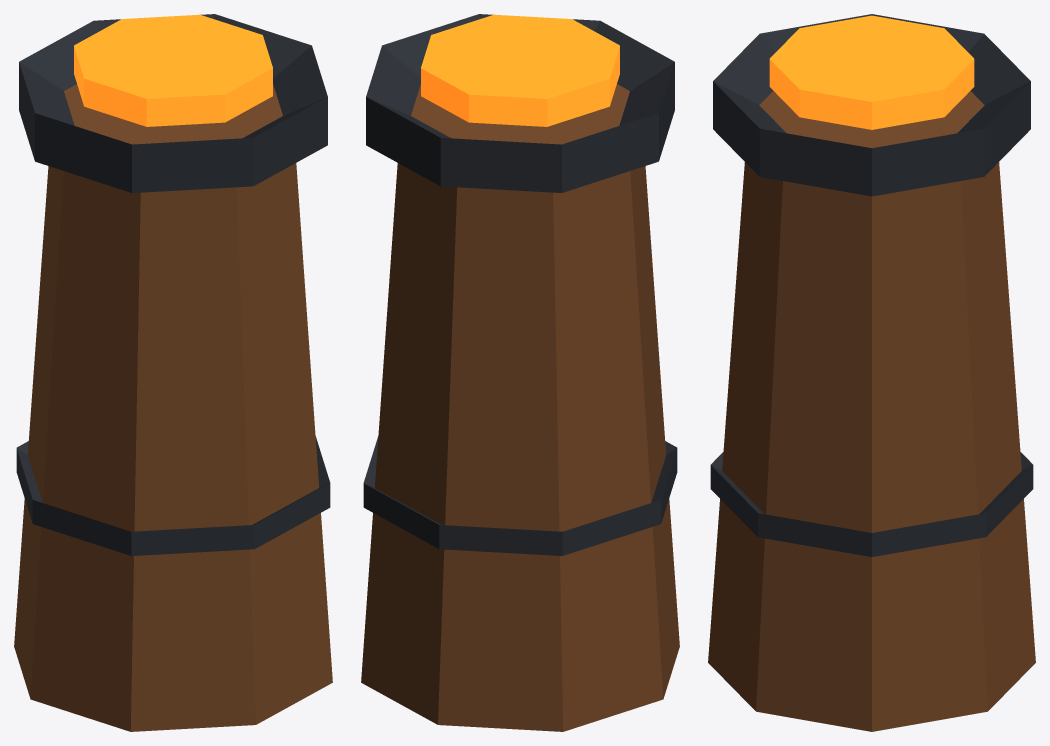
Rendered from dc_smokestack.glb.
The picture shows the model from 3 angles, left to right: view 1: azimuth 30°, elevation 25°; view 2: azimuth 150°, elevation 25°; view 3: azimuth 270°, elevation 25°; orthographic projection.
Visible parts, largest first — view 1: part.dc_smokestack; view 2: part.dc_smokestack; view 3: part.dc_smokestack.
Part boxes in pixels (left/top/right/bottom): part.dc_smokestack: left=14, top=14, right=332, bottom=731; part.dc_smokestack: left=361, top=14, right=679, bottom=731; part.dc_smokestack: left=708, top=14, right=1035, bottom=731.
Bounding box in the file's own units: 0.32 × 0.65 × 0.32.
